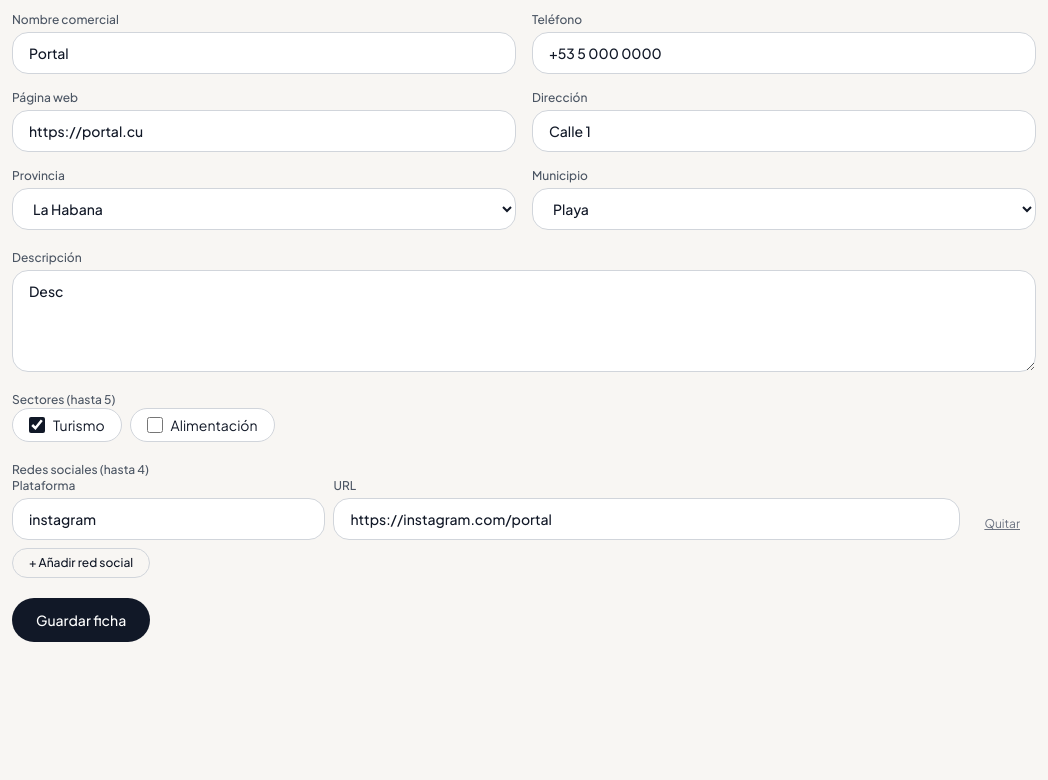
it: ProfileForm (6.2) › adds and removes social rows
This screenshot has width=1048, height=780.
Expected: the number of fields labelled "Plataforma" is 1, [12,498,326,540]
Click the button "+ Añadir red social".
click(81, 563)  # box [12,548,150,578]
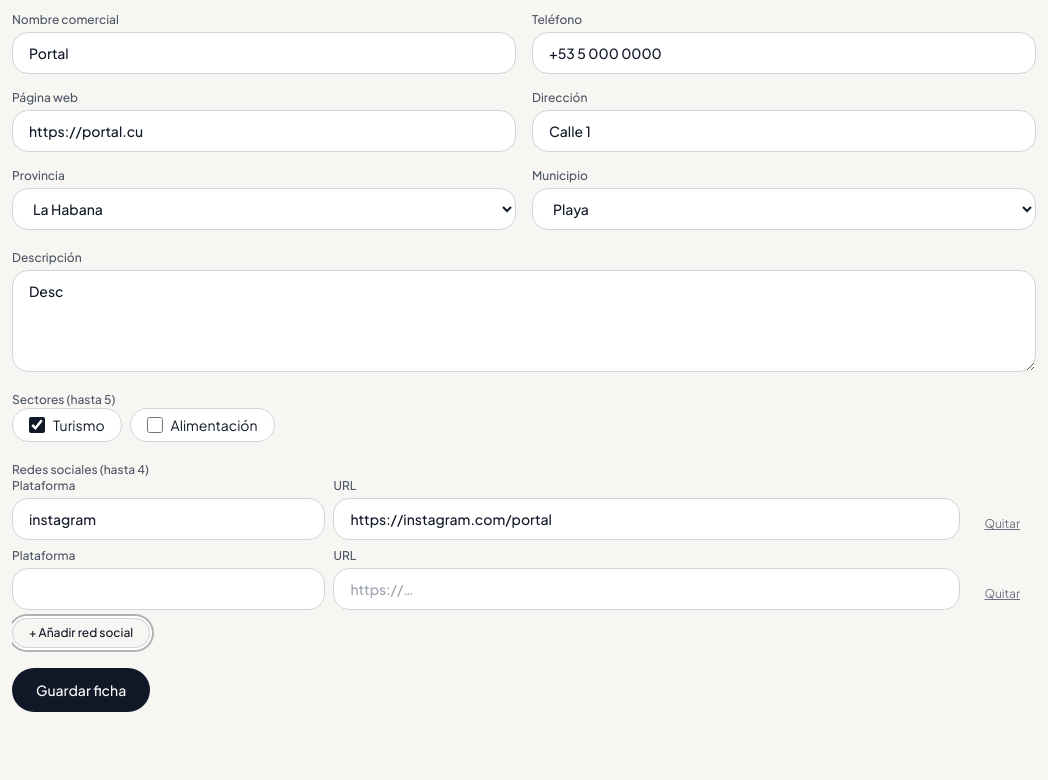
Expected: the number of fields labelled "Plataforma" is 2, [12,498,326,540]; [12,568,326,610]
Click the 1st button "Quitar".
click(1002, 524)  # box [968,508,1036,540]
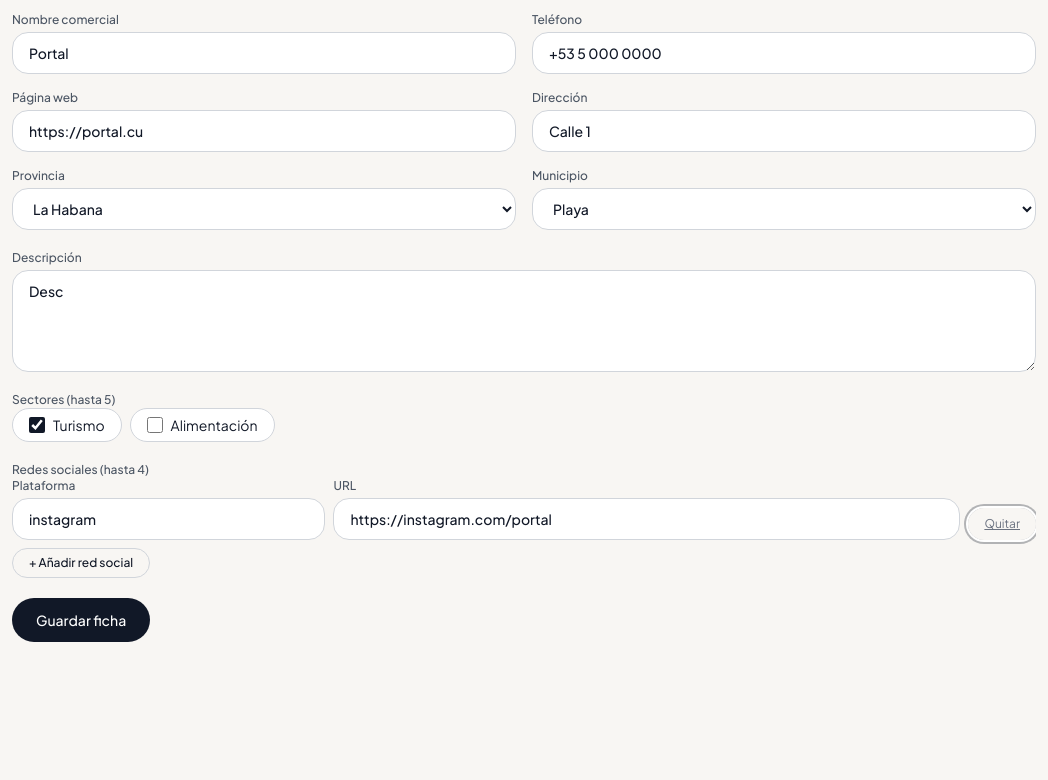
Expected: the number of fields labelled "Plataforma" is 1, [12,498,326,540]
